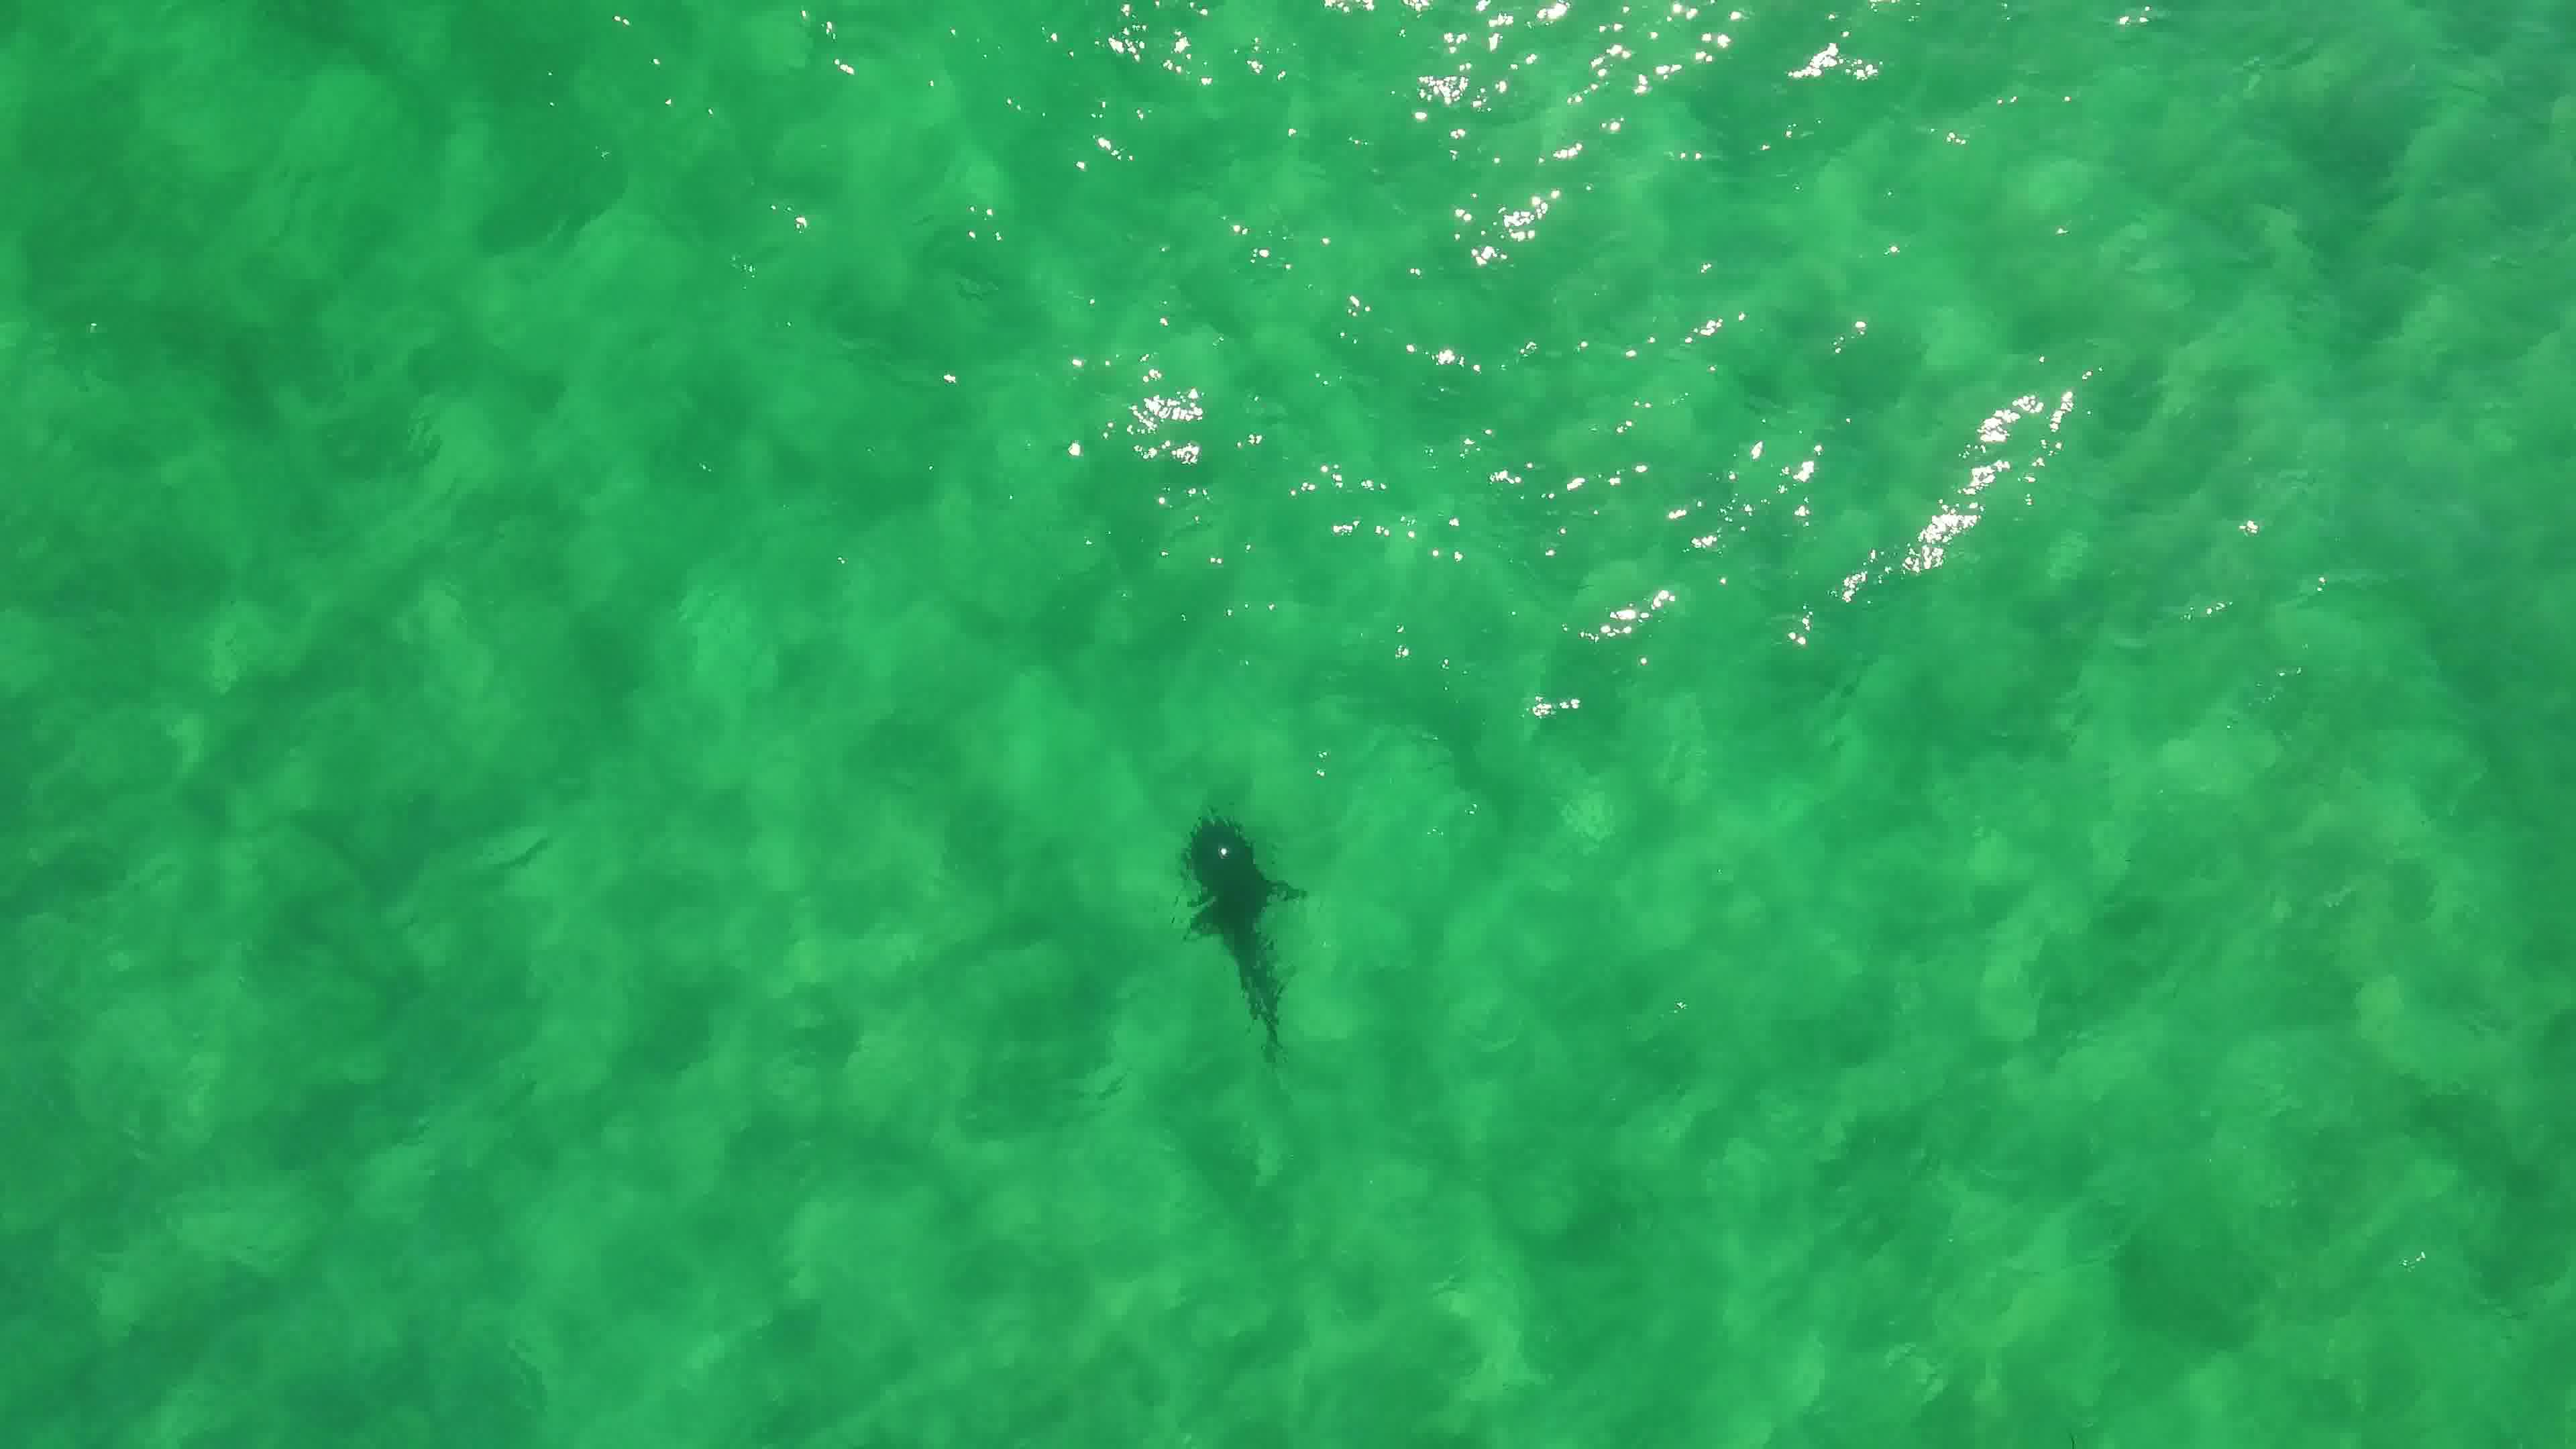shark: (1161, 810, 1309, 1067)
